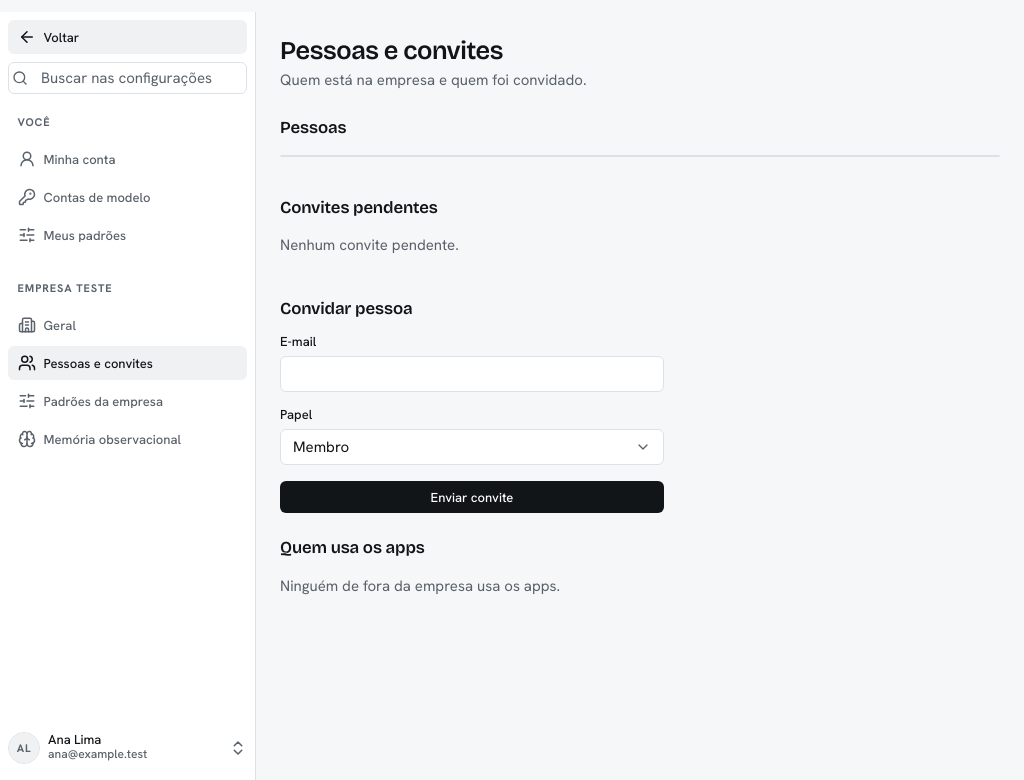
Test: o dono escolhe entre os três papéis; o administrador, entre dois
Click the dropdown named "Papel": (321, 447) left=280, top=429, right=664, bottom=465
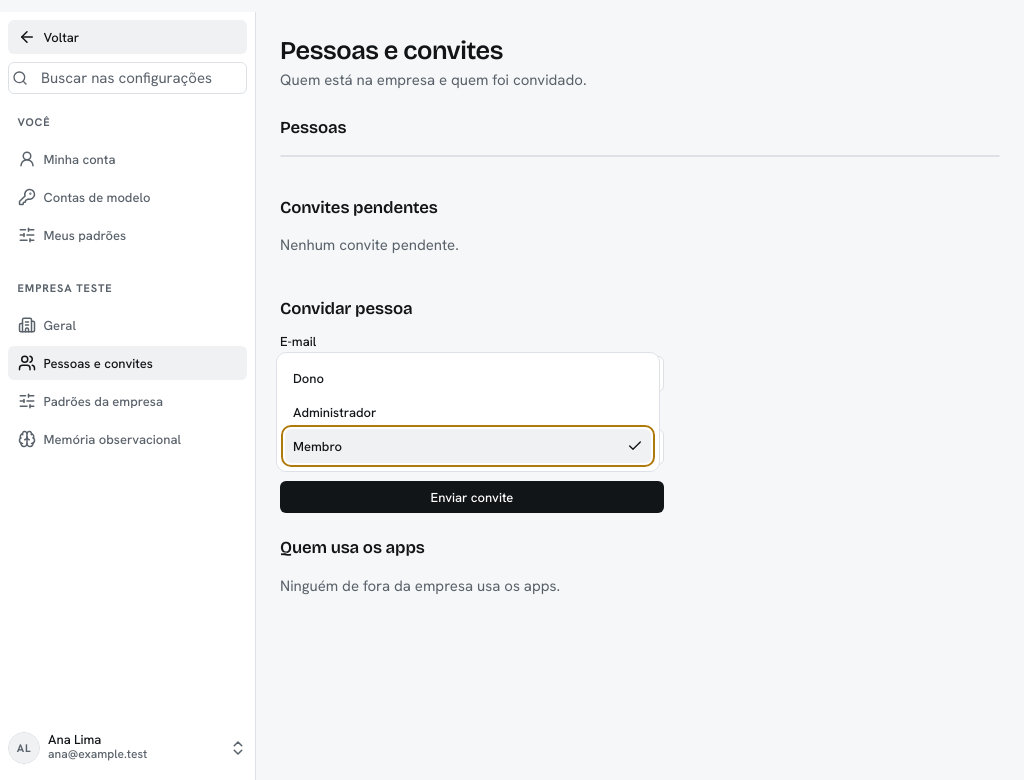
Now the options read "Dono", "Administrador", "Membro", in this order, box left=293, top=370, right=324, bottom=387; left=293, top=404, right=376, bottom=421; left=285, top=429, right=651, bottom=463
